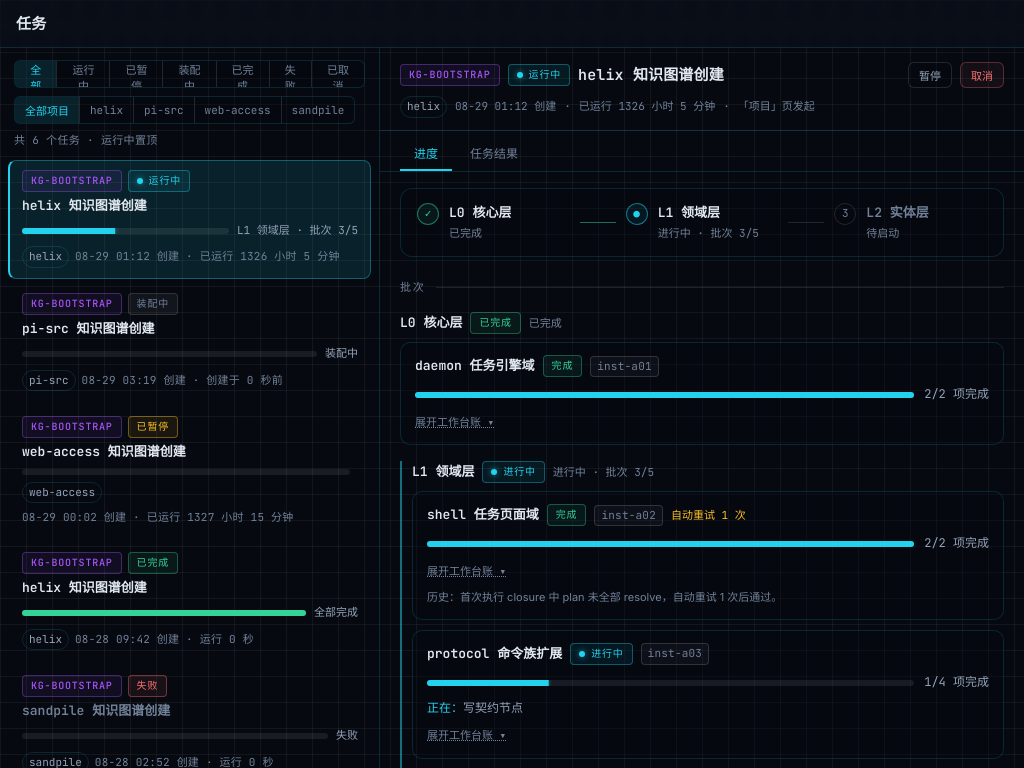
Test: P-2 TasksPage：阶段条 + 批次 plan + 任务结果 › 阶段条 stage 行驱动 + 批次节按 stageSeq 分组（运行中阶段高亮）；批次 retry>0 warning + 台账展开（abandoned 带理由）
Expected: the text with class "tk-stage-sub" in the row of "待启动" reads "已完成", [449, 226, 482, 240]
Expected: the element showing "✓ L0 核心层 已完成 ● L1 领域层 进行中 · 批次 3/5 3 L2 实体层 待启动" is shown, [400, 188, 1004, 257]
Click the button "展开工作台账 ▾" below "正在：" at (467, 734), box [427, 726, 506, 742]
(page scrolled)
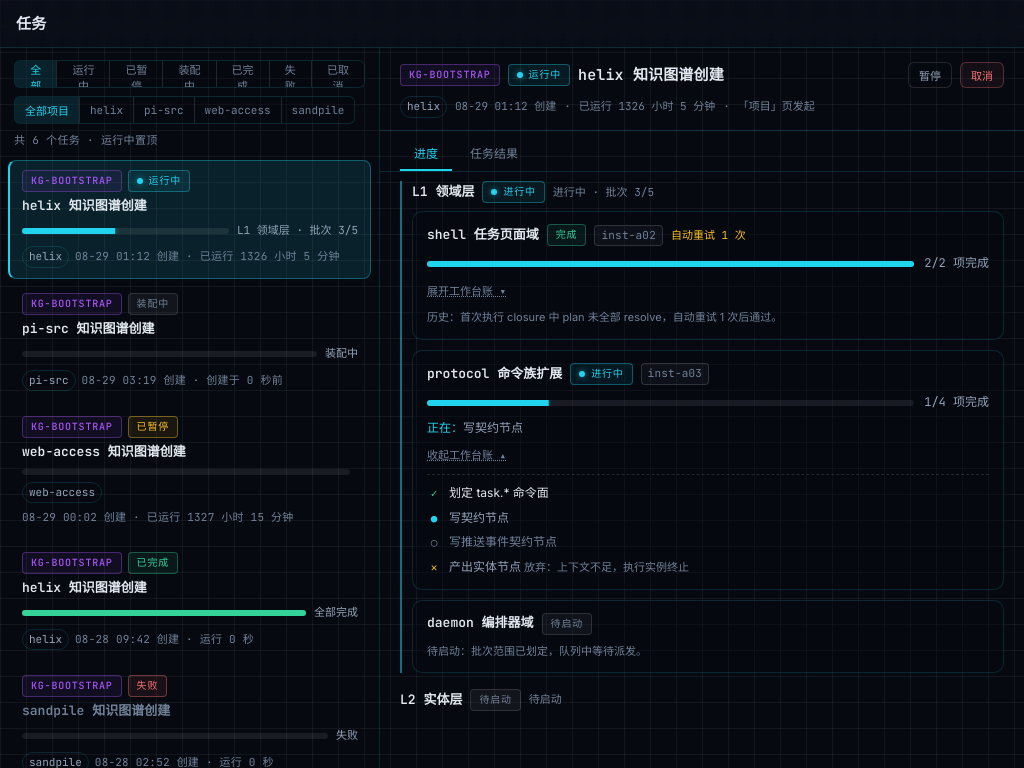
Expected: the element showing "✕ 产出实体节点 放弃：上下文不足，执行实例终止" is shown, [431, 559, 689, 574]
